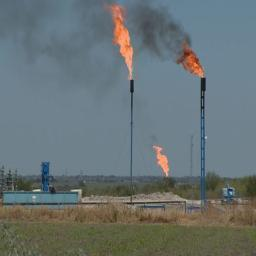fire: (105, 2, 134, 79), (174, 43, 204, 78), (153, 145, 169, 179)
smoke: (0, 0, 131, 97), (123, 0, 194, 63), (149, 133, 159, 155)
